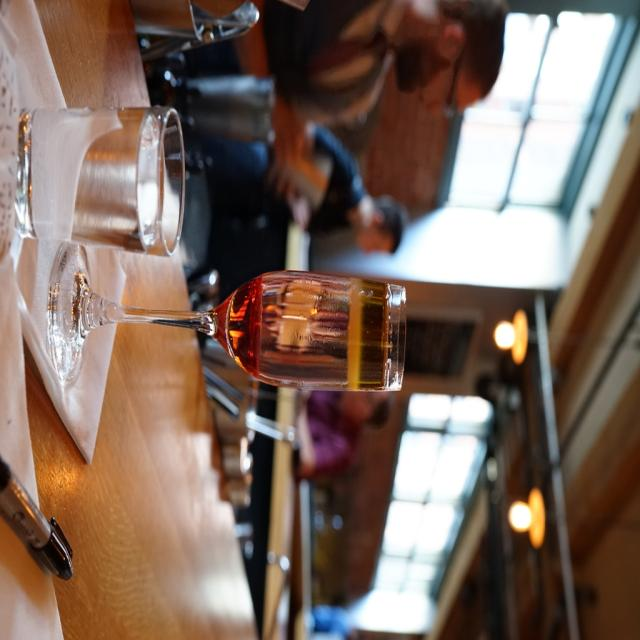pen: (0, 438, 75, 598)
